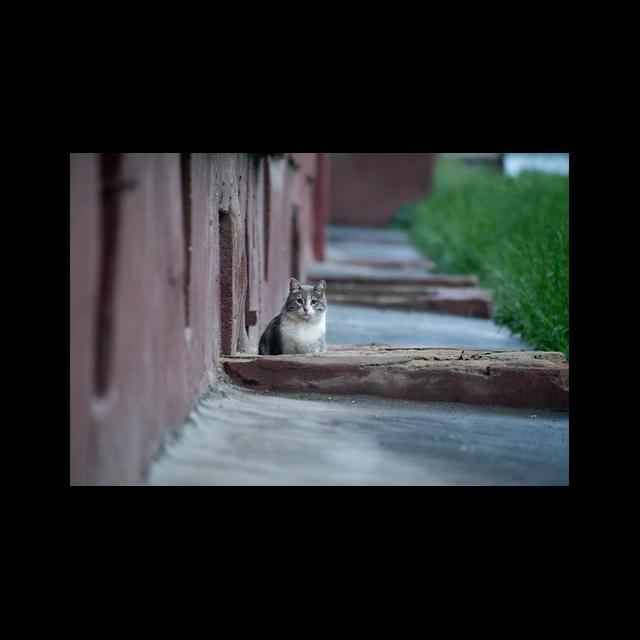animals: (258, 279, 329, 357)
